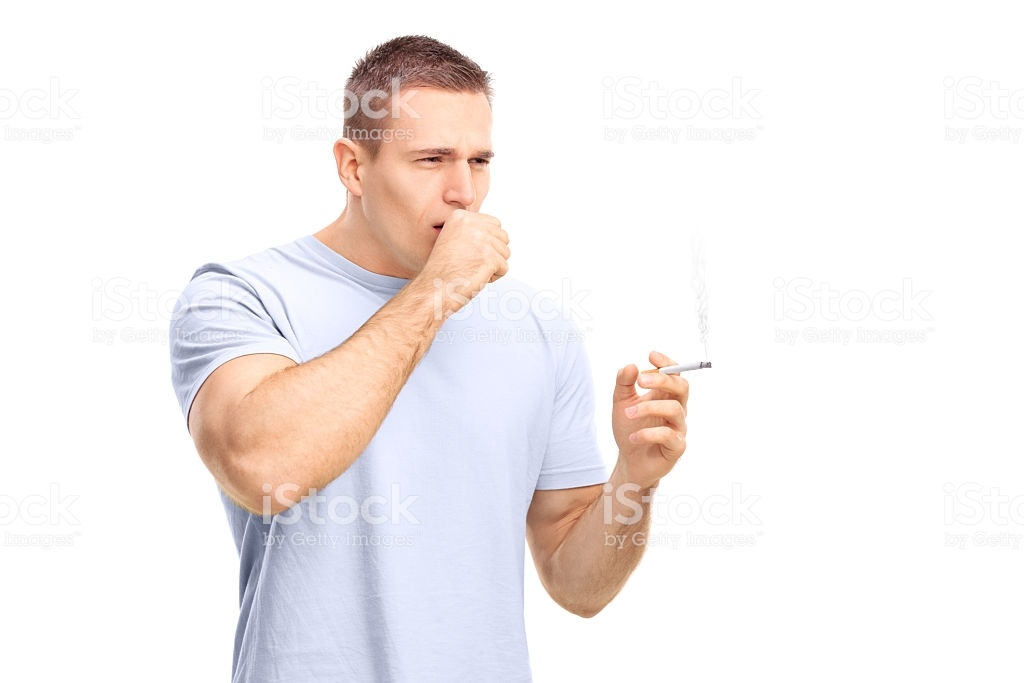sigaretta: (641, 354, 720, 387)
